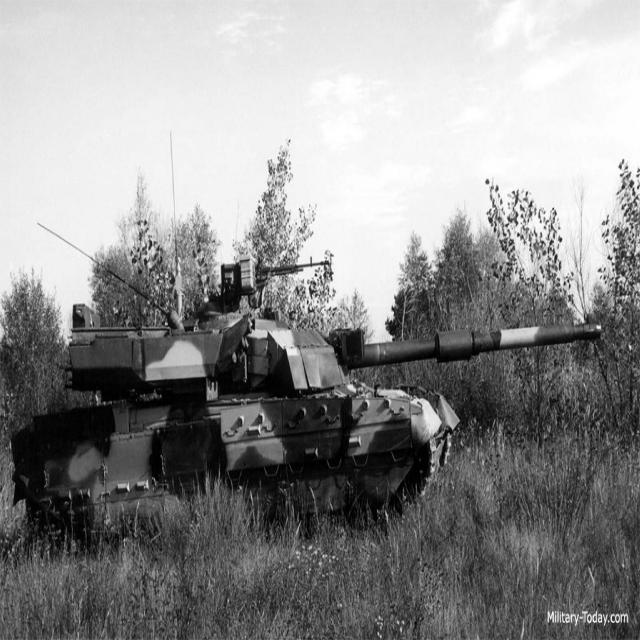Tank: (10, 244, 605, 550)
